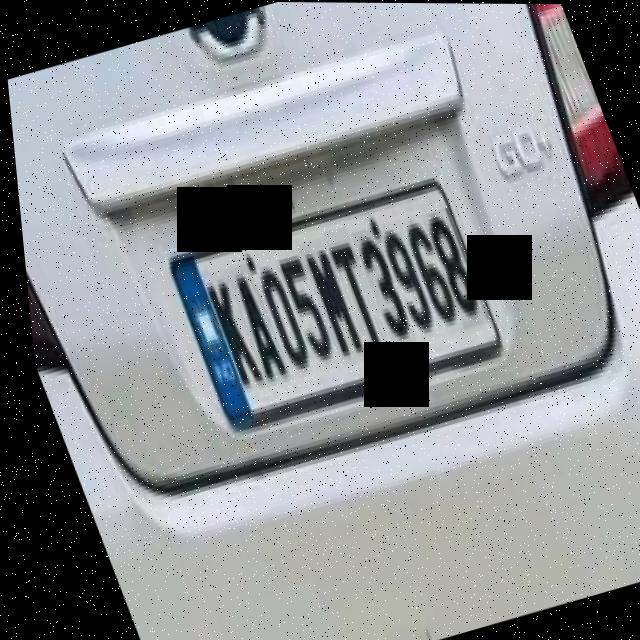0: (243, 258, 312, 379)
3: (345, 225, 410, 346)
5: (270, 252, 336, 372)
6: (394, 214, 459, 334)
8: (416, 206, 485, 328)
9: (369, 218, 435, 341)
A: (217, 262, 286, 387)
K: (192, 267, 260, 393)
M: (291, 236, 363, 367)
T: (315, 225, 386, 358)
